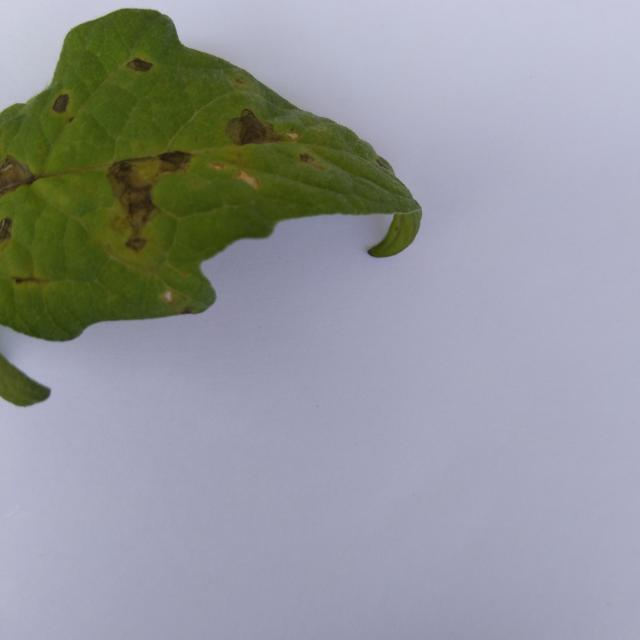Early Blight: (0, 0, 421, 345)
